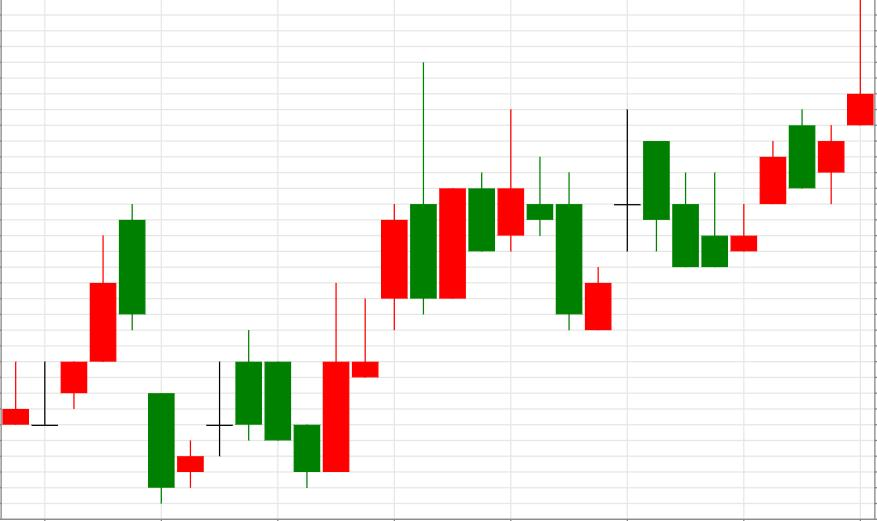shooting_star_fall: (731, 1, 874, 252)
